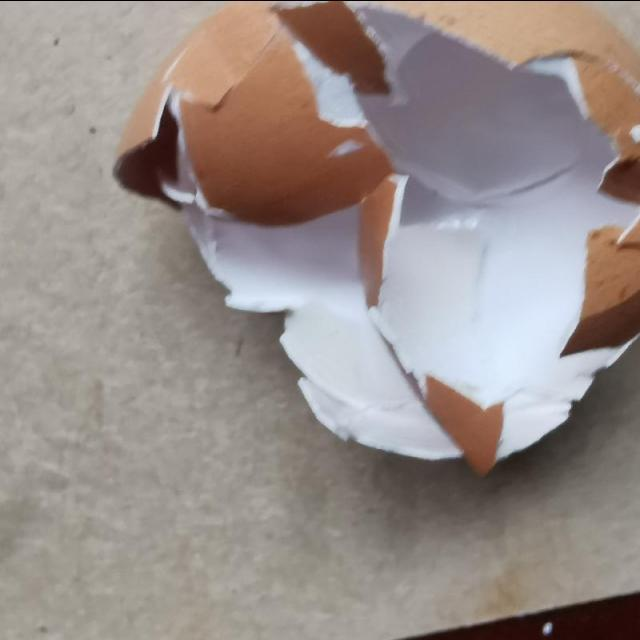egg shell: (113, 6, 639, 468)
